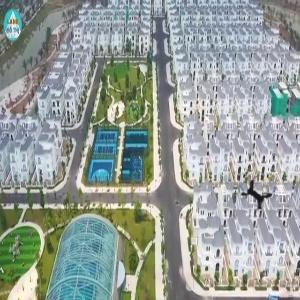drone: (223, 161, 290, 228)
